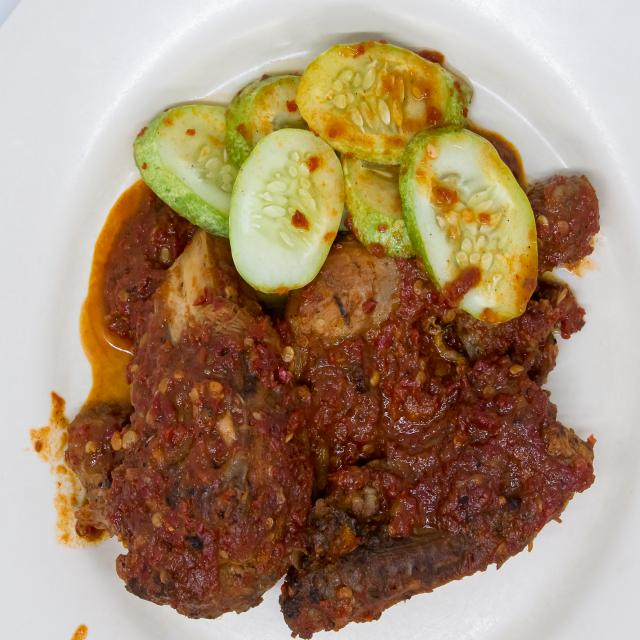Ayam-Bumbu-Rujak: (72, 48, 606, 632)
